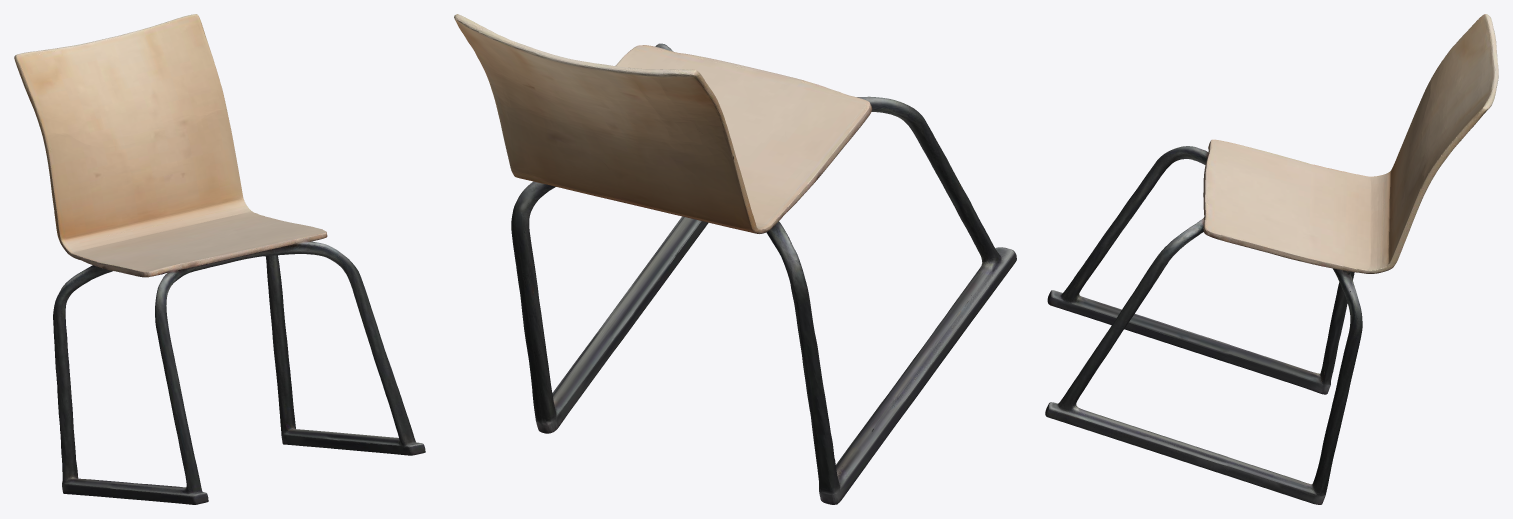
The model's file is wooden_chair_in_the_front_right_000.glb.
3 renders of one model, left to right at view 1: azimuth 30°, elevation 25°; view 2: azimuth 150°, elevation 25°; view 3: azimuth 270°, elevation 25°, orthographic. The views are drawn at different scales.
Parts seen in each view (by area): view 1: wooden_chair_in_the_front_right_000.obj; view 2: wooden_chair_in_the_front_right_000.obj; view 3: wooden_chair_in_the_front_right_000.obj.
Boxes of the visible parts, <box> form: wooden_chair_in_the_front_right_000.obj: <box>14,14,425,504</box>; wooden_chair_in_the_front_right_000.obj: <box>454,14,1016,504</box>; wooden_chair_in_the_front_right_000.obj: <box>1045,14,1498,504</box>.
Size of the model in its own units: 0.3319 by 0.5144 by 0.5393.
Materials: 1 (1 with a texture image).
